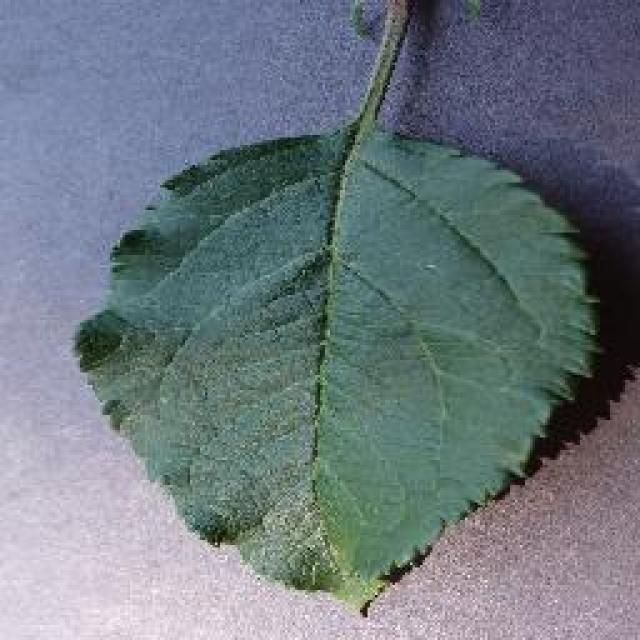apple healthy: (70, 0, 610, 615)
